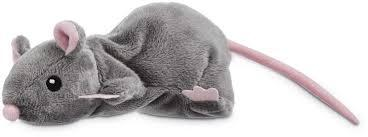rat: (1, 1, 361, 127), (1, 1, 236, 126)
